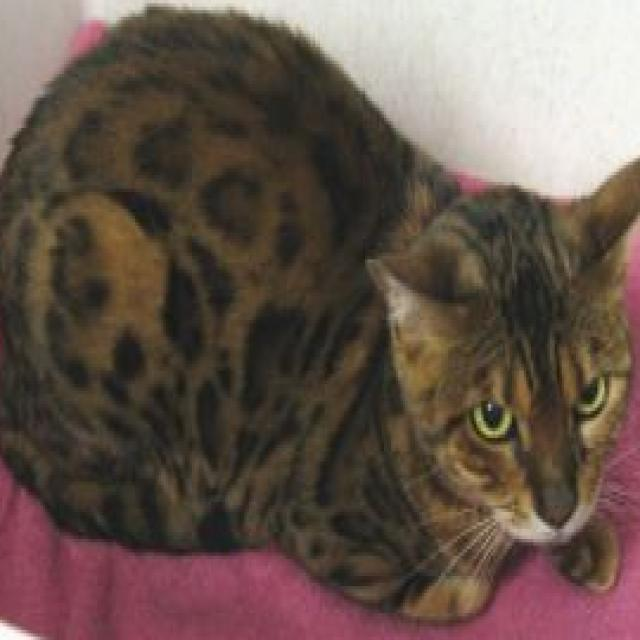Bengal: (0, 0, 640, 627)
